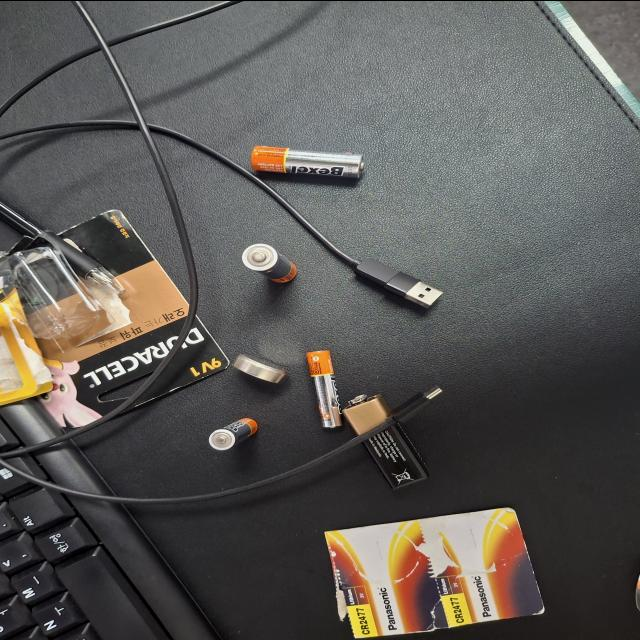9V: (518, 318, 640, 384)
AA: (192, 365, 238, 453)
AAA: (468, 384, 570, 409), (554, 446, 600, 484)
COIN: (471, 424, 509, 466)
